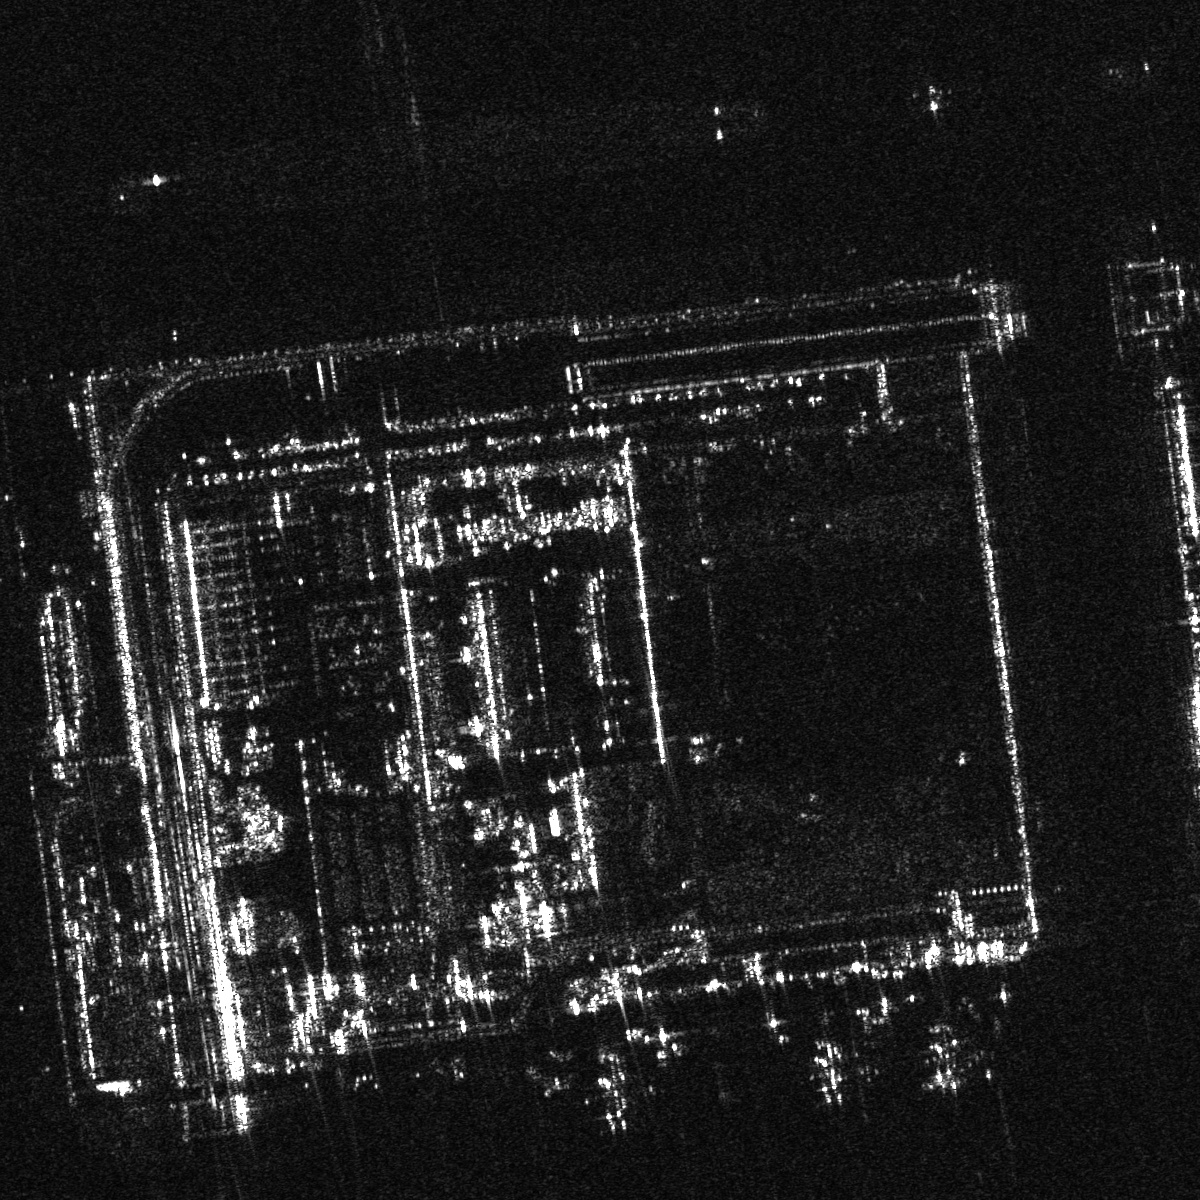A330: (910, 79, 953, 115)
Boeing787: (584, 1051, 656, 1134), (796, 1032, 865, 1109), (918, 1026, 981, 1095)
